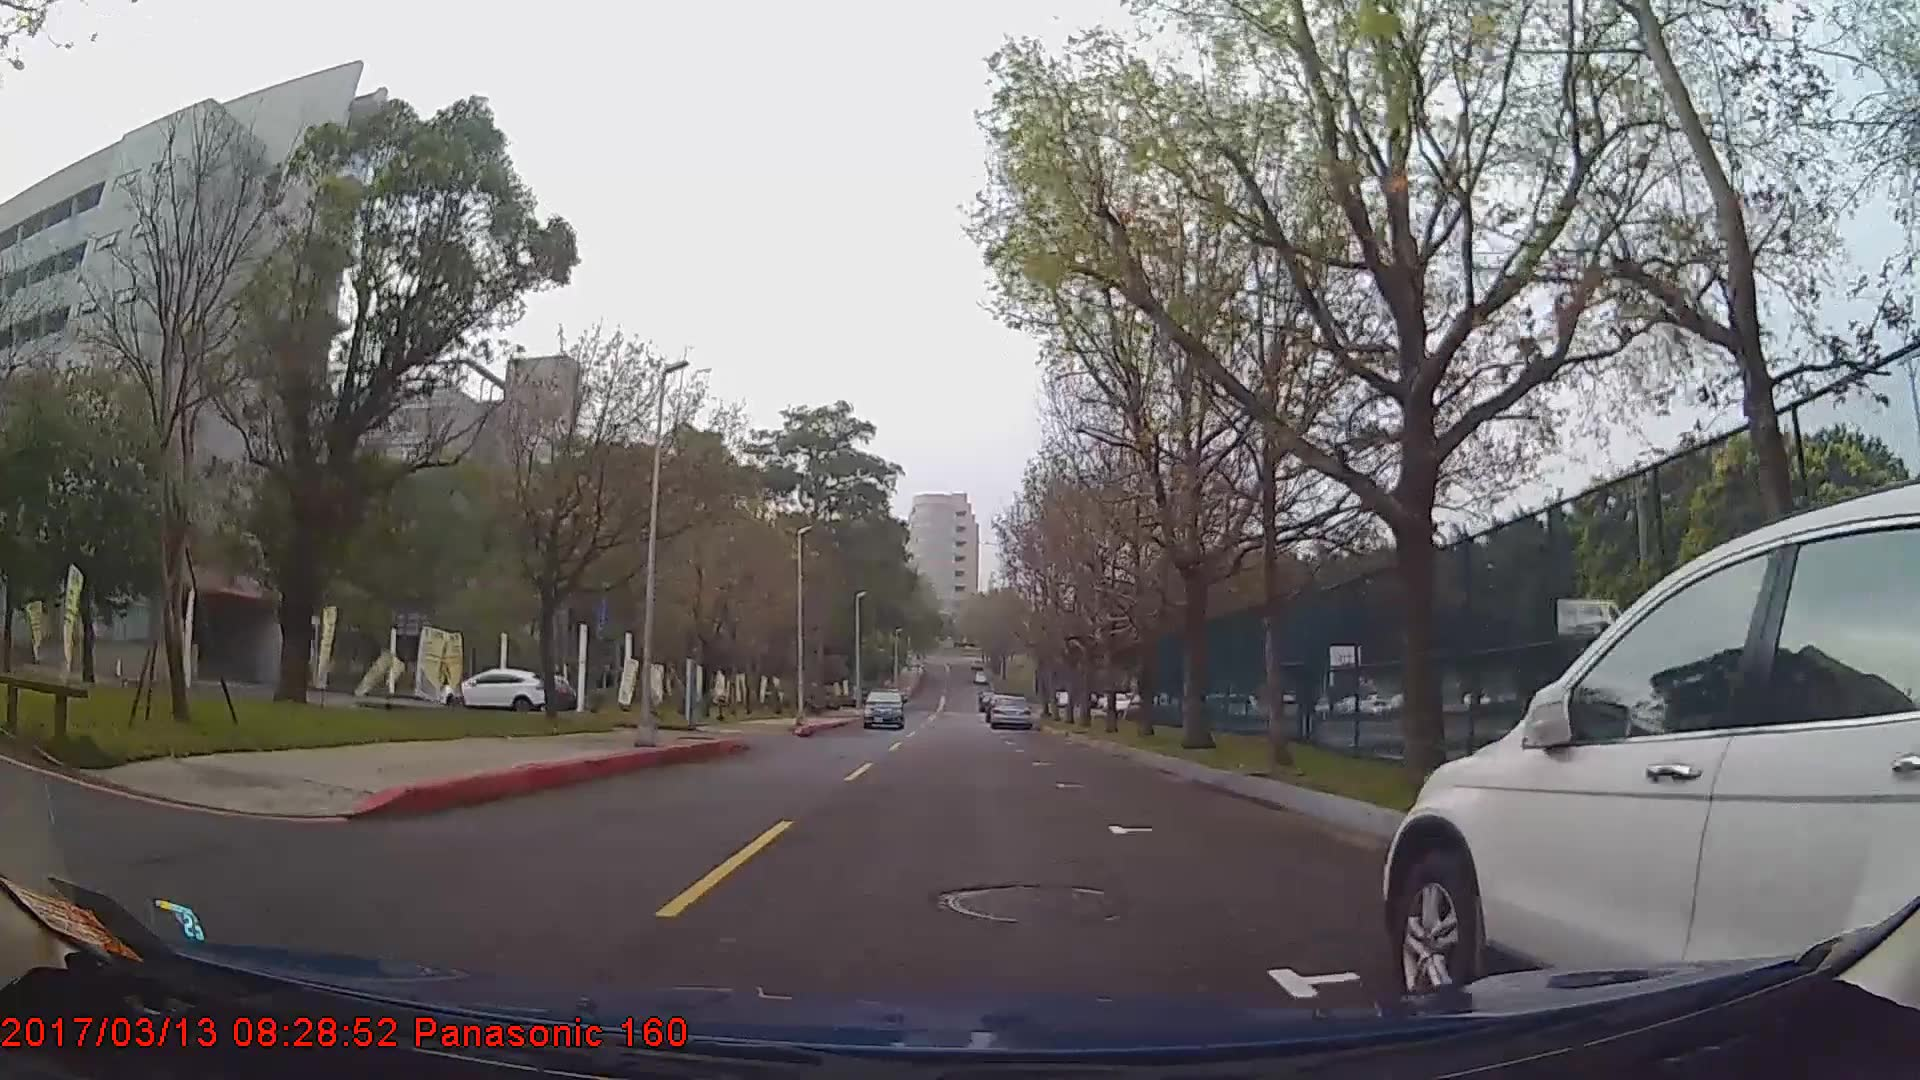vehicle: (1379, 481, 1920, 1022), (442, 665, 554, 713), (862, 684, 905, 731), (988, 694, 1033, 732)
